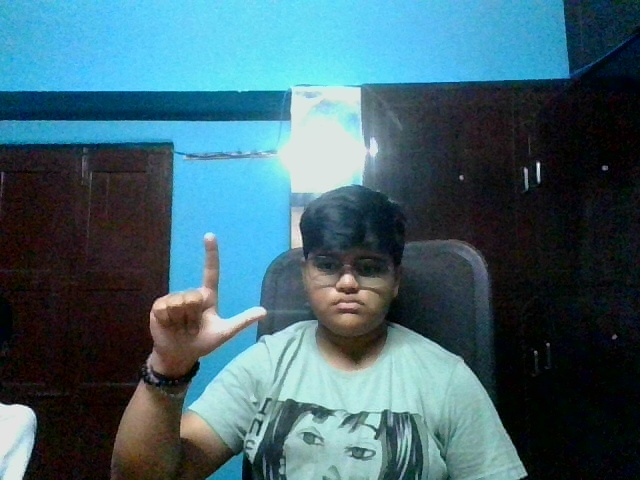L: (146, 225, 272, 355)
